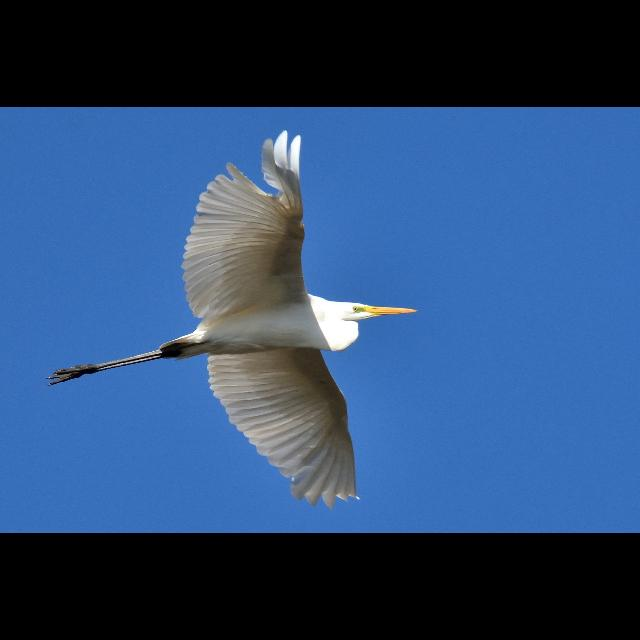egret: (48, 132, 416, 504)
